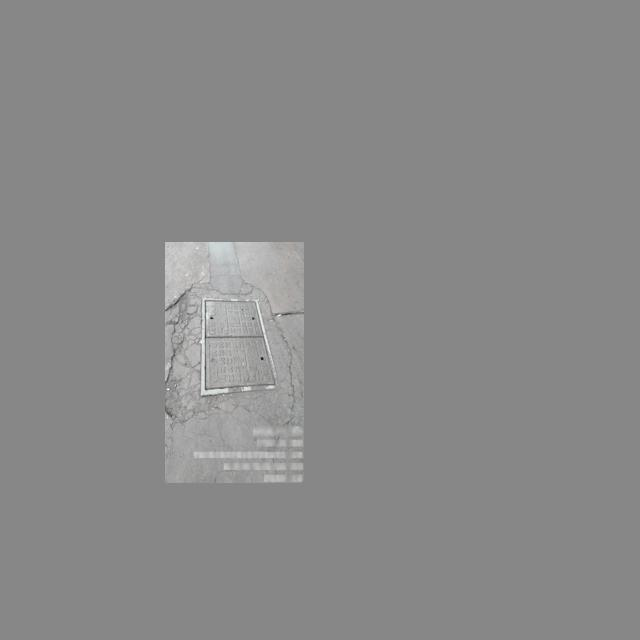good: (202, 298, 277, 388)
